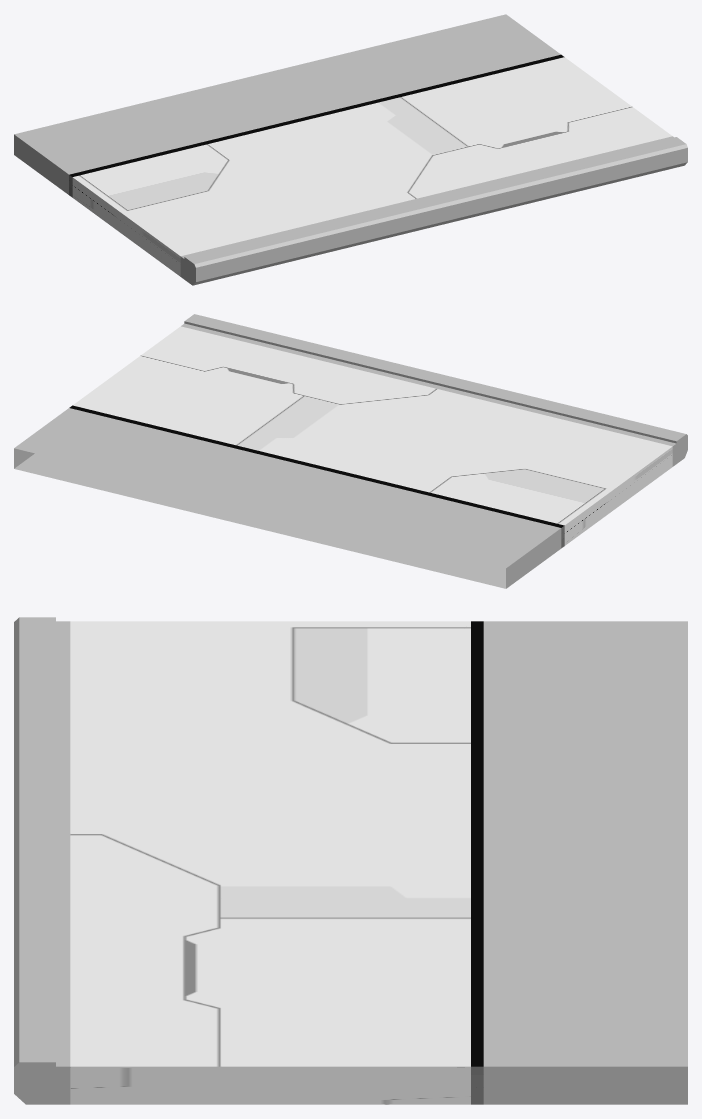
File: SM_Platform_Interior_5x3_1.fbx
The picture shows the model from 3 angles, top to bottom: view 1: azimuth 30°, elevation 25°; view 2: azimuth 150°, elevation 25°; view 3: azimuth 270°, elevation 25°; orthographic projection. The views are drawn at different scales.
Visible parts, largest first — view 1: SM_Platform_Interior_5x3_1; view 2: SM_Platform_Interior_5x3_1; view 3: SM_Platform_Interior_5x3_1.
Boxes of the visible parts, x1,y1,x2,y2 form: SM_Platform_Interior_5x3_1: [14, 14, 687, 285]; SM_Platform_Interior_5x3_1: [14, 314, 687, 588]; SM_Platform_Interior_5x3_1: [14, 617, 687, 1104].
Bounding box in the file's own units: 500 × 22.17 × 320.
